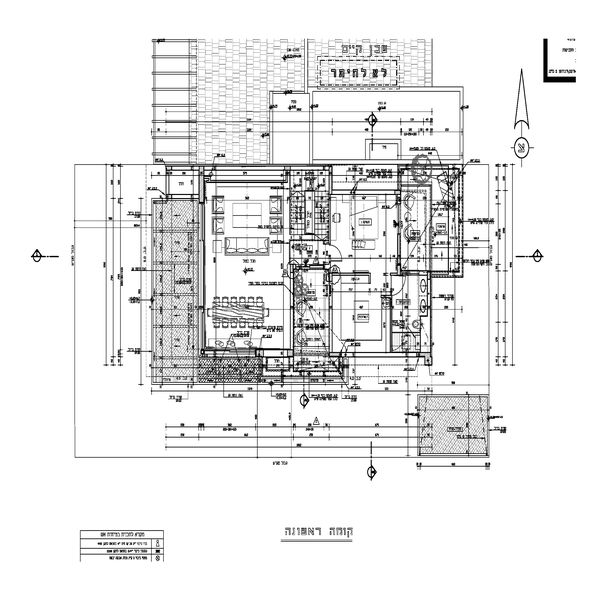door: (147, 185, 167, 213), (387, 277, 407, 304), (320, 244, 344, 264)
wall: (195, 242, 210, 363), (193, 170, 216, 240)
window: (201, 351, 252, 364)
